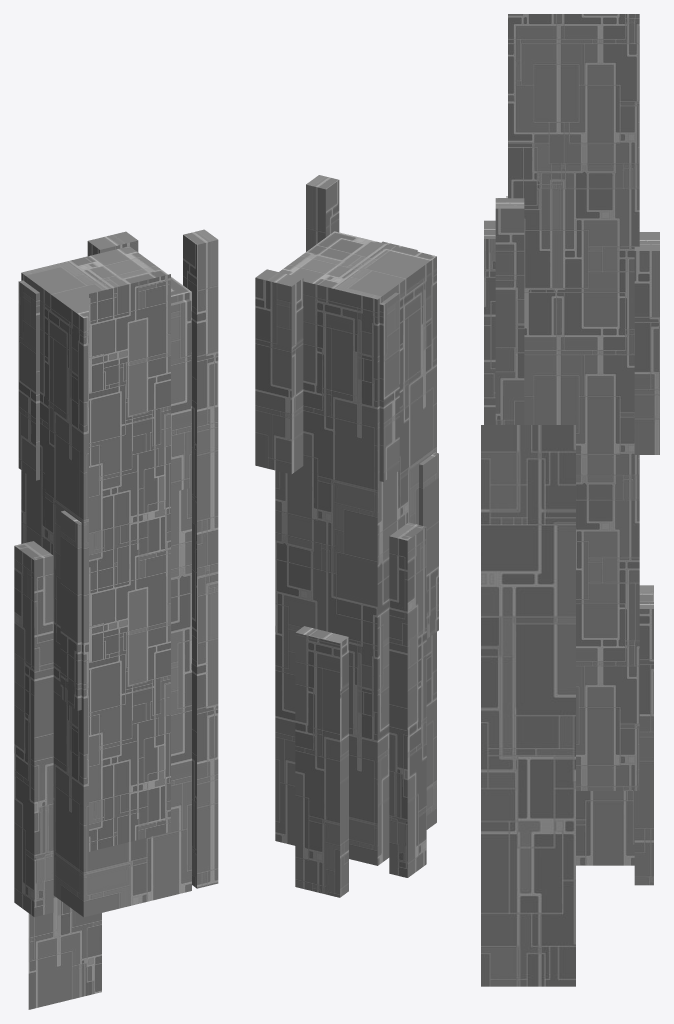
The model's file is SM_architecture_module_06.glb.
3 renders of one model, left to right at view 1: azimuth 30°, elevation 25°; view 2: azimuth 150°, elevation 25°; view 3: azimuth 270°, elevation 25°, orthographic. The views are drawn at different scales.
Visible parts, largest first — view 1: SM_architecture_module_06; view 2: SM_architecture_module_06; view 3: SM_architecture_module_06.
Boxes of the visible parts, x1=… form: SM_architecture_module_06: x1=14, y1=229, x2=218, y2=1009; SM_architecture_module_06: x1=255, y1=175, x2=438, y2=897; SM_architecture_module_06: x1=481, y1=14, x2=659, y2=986.
Bounding box in the file's own units: 0.4459 × 2.78 × 0.448.
Materials: 2 (2 with a texture image).
